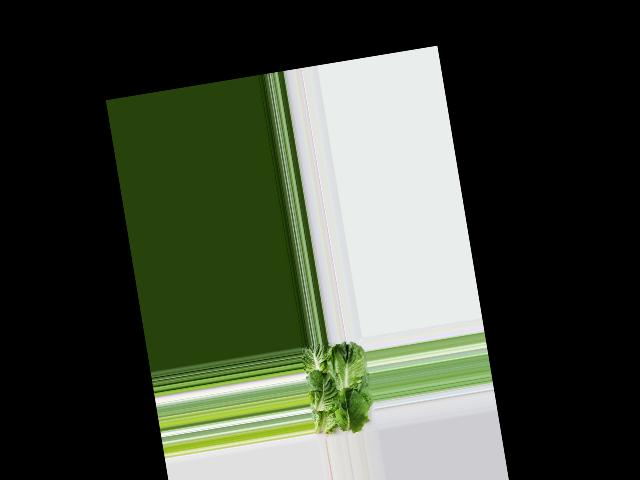lettuce: (299, 339, 375, 437)
